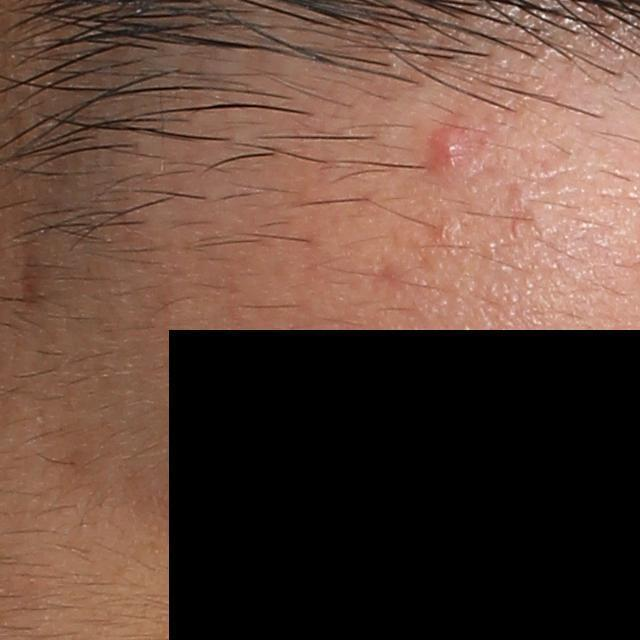papule: (425, 127, 470, 172)
